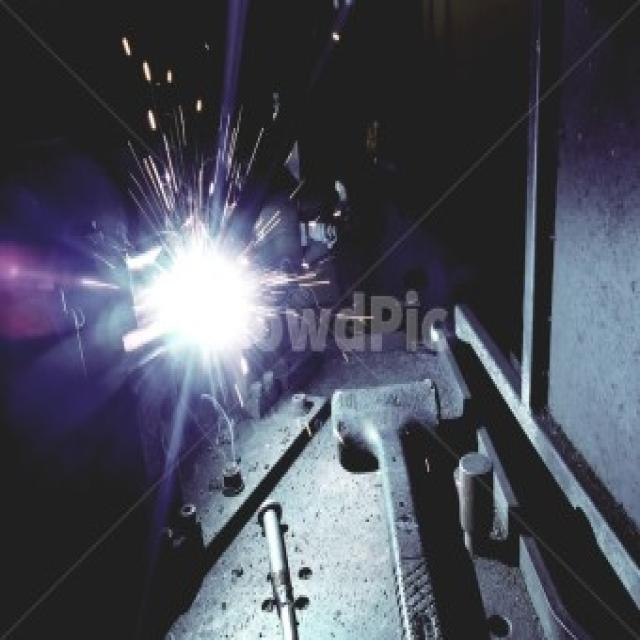welding: (150, 220, 276, 364)
